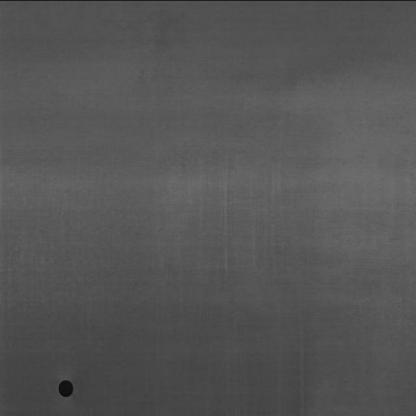punching_hole: (52, 376, 78, 400)
